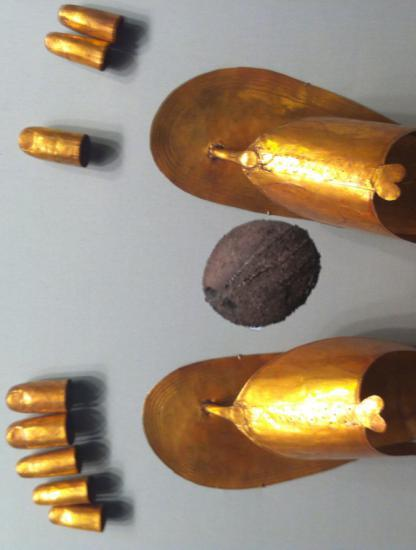Cocos: (199, 210, 325, 336)
